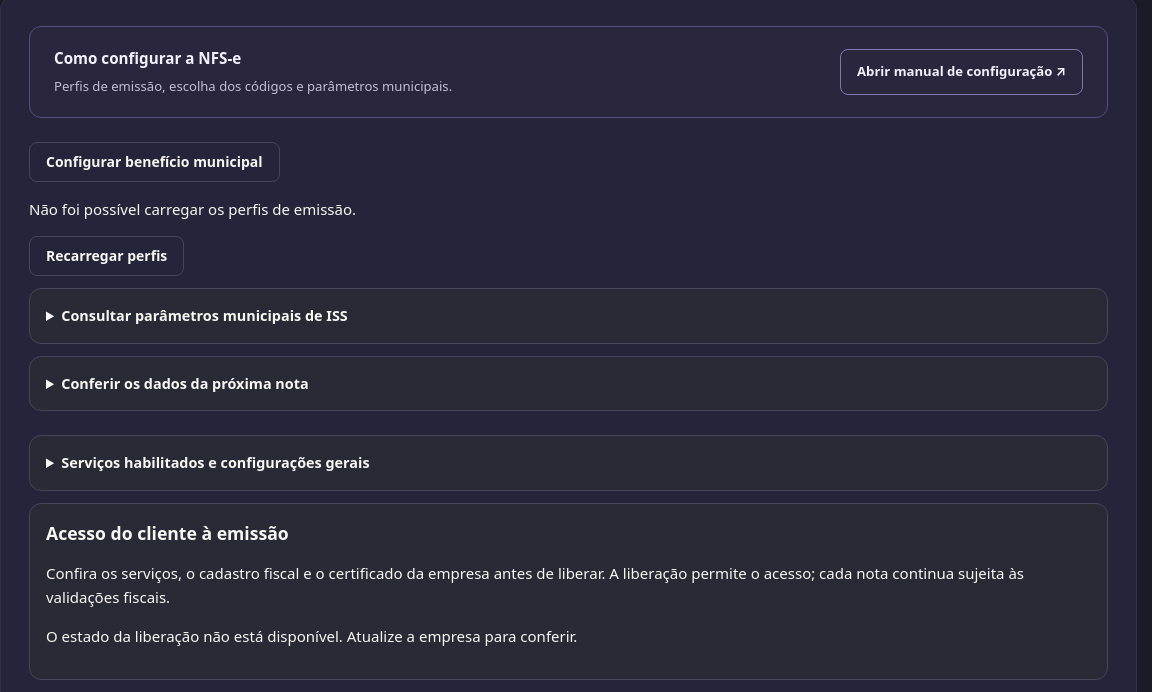
o salvar da aba grava, e só grava o que é dela › sem alteração não há o que salvar — e a tela diz isso, em vez de só desabilitar
Click the heading "Serviços habilitados e configurações gerais": x=215, y=463 [61,453,370,472]
(page scrolled)
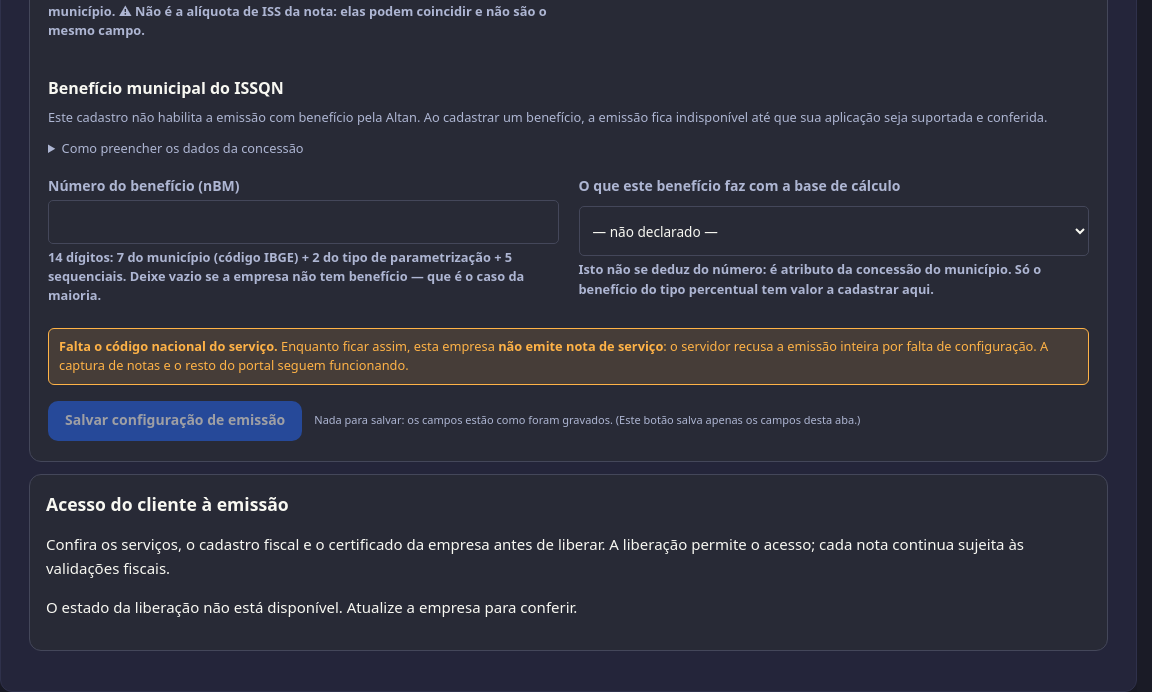
Check: the button "Salvar configuração de emissão" is disabled, box [48,401,302,441]
Check: the text "Nada para salvar" is shown, box [314,412,860,427]
